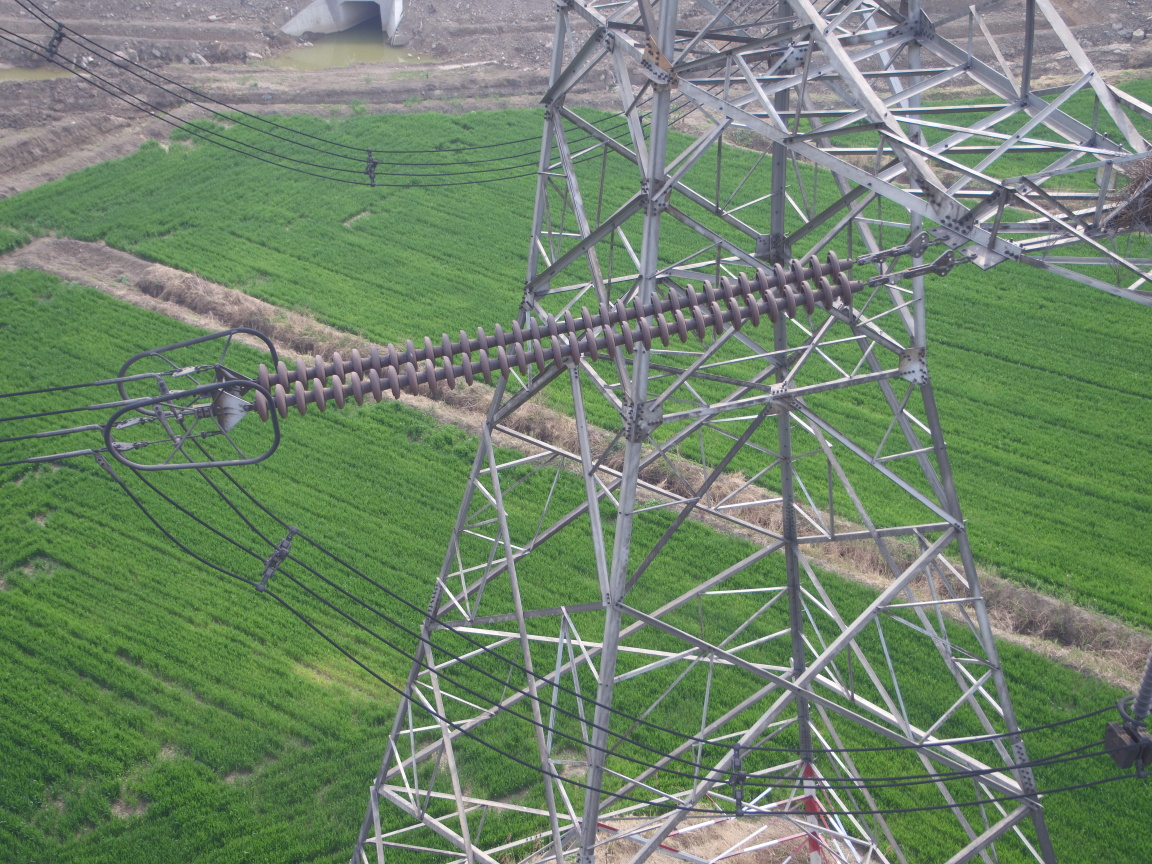insulator: (230, 246, 897, 423)
